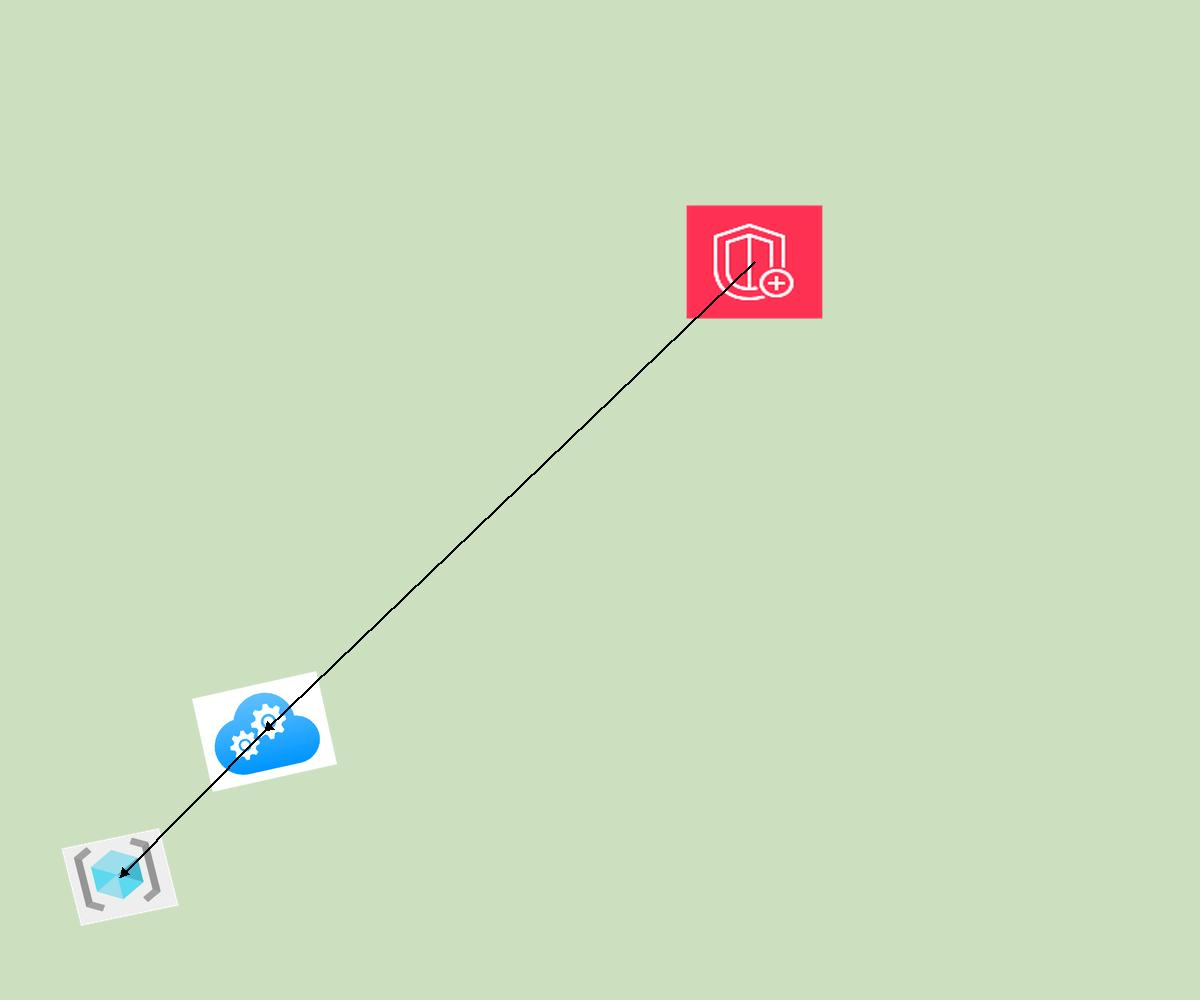AWS-Shield: (685, 204, 824, 320)
Azure_cloud_services: (192, 671, 337, 792)
Azure_resource_group: (61, 828, 179, 926)
